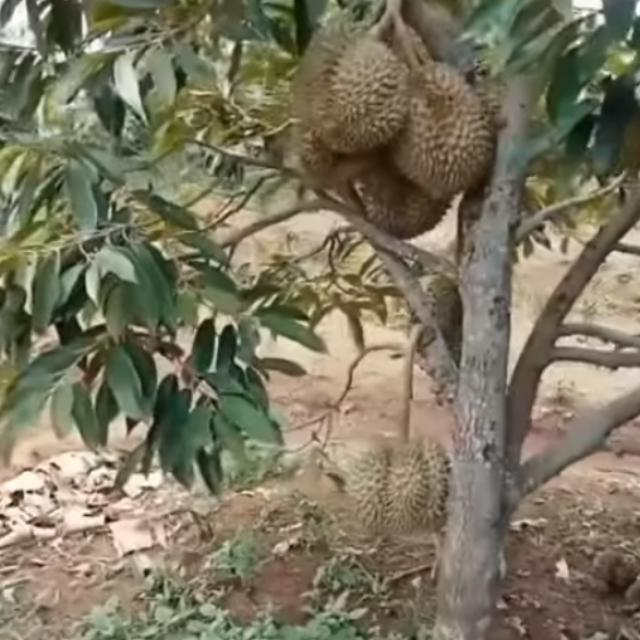mature: (377, 60, 495, 208), (293, 17, 410, 151), (343, 430, 462, 540)
